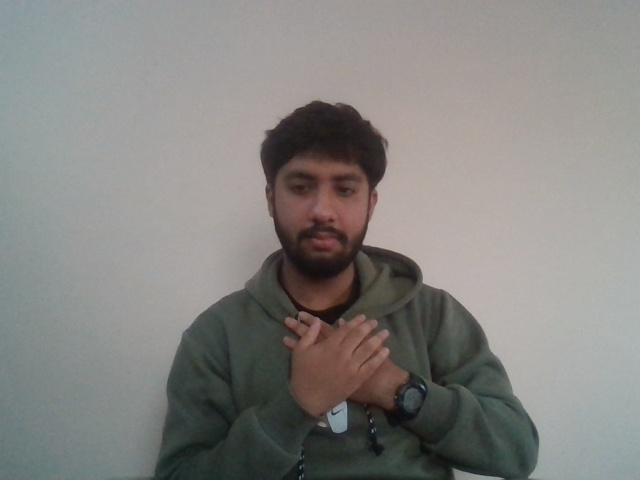Please: (269, 309, 407, 407)
